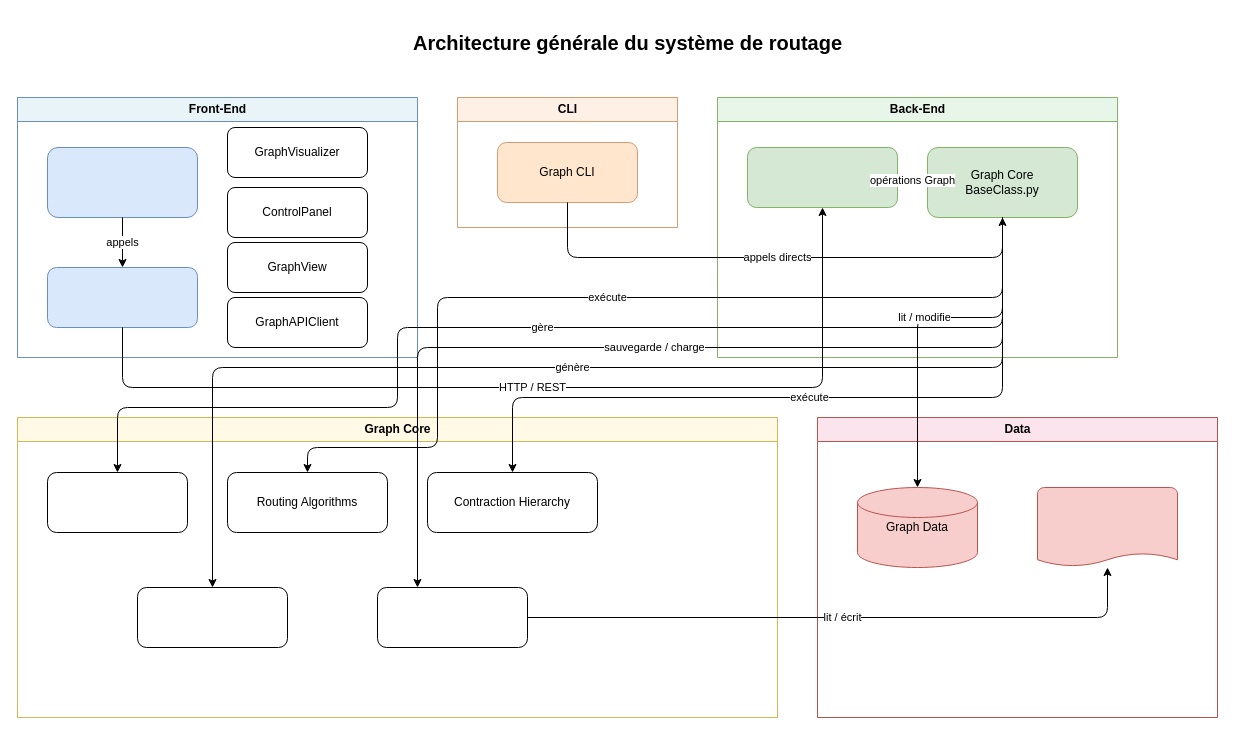
Some shapes in this 1255 by 735 pixel diagram are drawn without their labels. The shapes that lost their labels are listed below. From the top down, each one's centre as x and y in pixels, then its label:
At (122,182): "Interface graphique PyQt6".
At (822,177): "Flask REST API".
At (122,297): "API Client".
At (117,502): "Graph Structure".
At (1107,527): "JSON / Pickle Graph Files".
At (212,617): "Graph Generation".
At (452,617): "Serialization".
